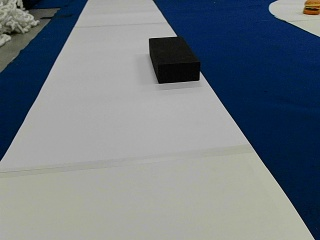block: (149, 36, 199, 83)
